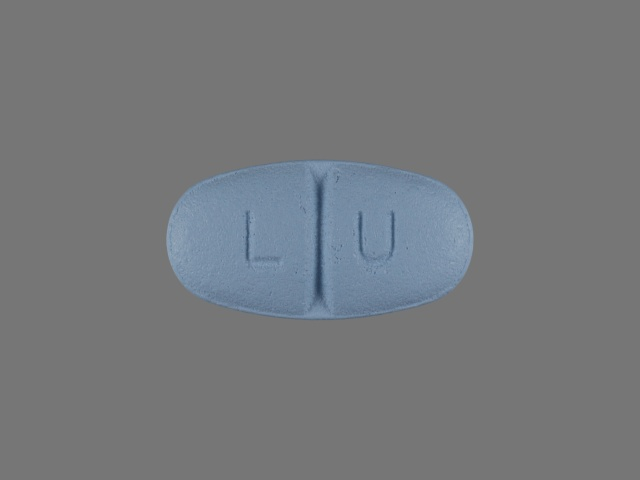L: (234, 204, 286, 275)
U: (351, 204, 403, 270)
|: (299, 154, 338, 325)
